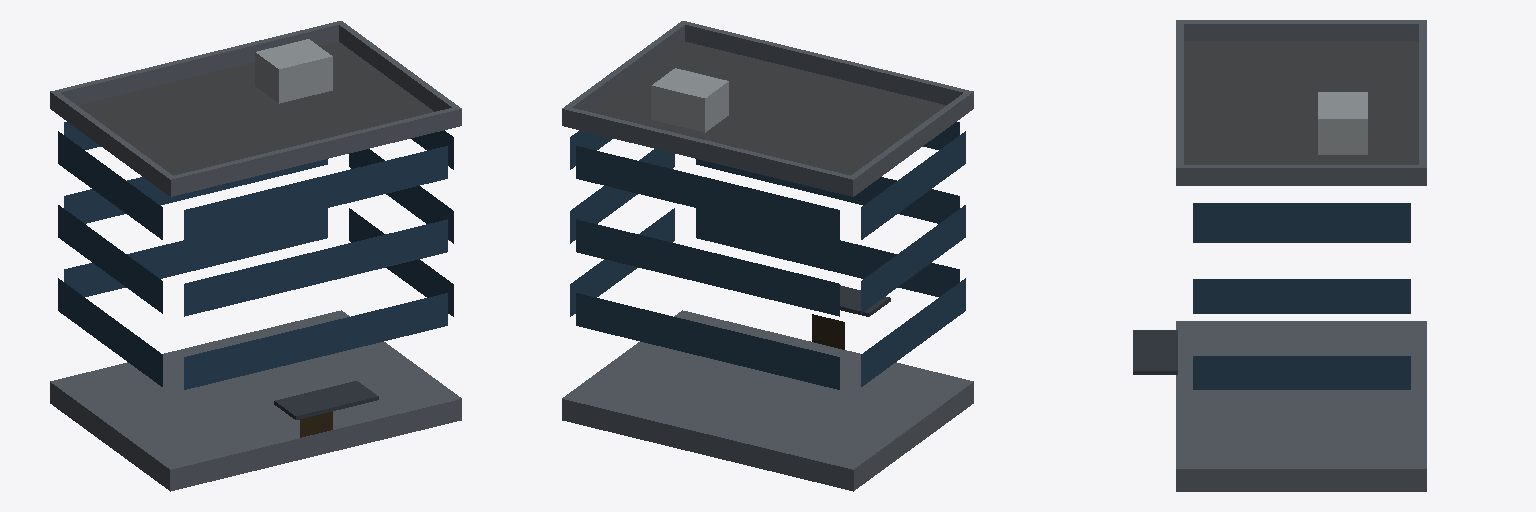
The robot description file, URDF, robot "building_01":
<?xml version="1.0" encoding="utf-8"?>
<!-- Generated by tools/generate_assets.py -->
<robot name="building_01">
  <link name="base_link">
    <inertial>
      <mass value="0" />
      <inertia ixx="0" ixy="0" ixz="0" iyy="0" iyz="0" izz="0" />
    </inertial>
    <visual name="part_0">
      <geometry><mesh filename="meshes/building_01_v0.obj" /></geometry>
      <material name="building_01_0"><color rgba="0.6 0.63 0.66 1" /></material>
    </visual>
    <visual name="part_1">
      <geometry><mesh filename="meshes/building_01_v1.obj" /></geometry>
      <material name="building_01_1"><color rgba="0.38 0.4 0.43 1" /></material>
    </visual>
    <visual name="part_2">
      <geometry><mesh filename="meshes/building_01_v2.obj" /></geometry>
      <material name="building_01_2"><color rgba="0.3 0.31 0.32 1" /></material>
    </visual>
    <visual name="part_3">
      <geometry><mesh filename="meshes/building_01_v3.obj" /></geometry>
      <material name="building_01_3"><color rgba="0.6 0.62 0.63 1" /></material>
    </visual>
    <visual name="part_4">
      <geometry><mesh filename="meshes/building_01_v4.obj" /></geometry>
      <material name="building_01_4"><color rgba="0.2 0.3 0.38 1" /></material>
    </visual>
    <visual name="part_5">
      <geometry><mesh filename="meshes/building_01_v5.obj" /></geometry>
      <material name="building_01_5"><color rgba="0.25 0.2 0.15 1" /></material>
    </visual>
    <visual name="part_6">
      <geometry><mesh filename="meshes/building_01_v6.obj" /></geometry>
      <material name="building_01_6"><color rgba="0.25 0.27 0.3 1" /></material>
    </visual>
    <collision name="hull_0">
      <geometry><mesh filename="meshes/building_01_c0.obj" /></geometry>
    </collision>
    <collision name="hull_1">
      <geometry><mesh filename="meshes/building_01_c1.obj" /></geometry>
    </collision>
    <collision name="hull_2">
      <geometry><mesh filename="meshes/building_01_c2.obj" /></geometry>
    </collision>
  </link>
</robot>

--- What the picture shows (computed from the rendered views, not written in the file) ---
3 views of the same robot in one strip: view 1: azimuth 30°, elevation 25°; view 2: azimuth 150°, elevation 25°; view 3: azimuth 270°, elevation 25° (orthographic).
Robot: building_01 — 1 links, 0 joints (none); root link base_link; default pose: every joint at zero.
Links seen in each view (by area): view 1: base_link; view 2: base_link; view 3: base_link.
Link boxes in pixels (x1=…): base_link: x1=50, y1=21, x2=461, y2=491; base_link: x1=562, y1=21, x2=973, y2=491; base_link: x1=1133, y1=20, x2=1426, y2=491.
Bounding box of the posed robot: 14.12 × 11.86 × 15.2 m (x, y, z).
Meshes: 7 distinct files referenced, 6 mesh visuals loaded (6 OBJ); not drawn: 1 (reference not matched to a file when rendering).
